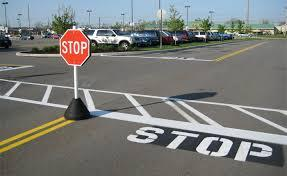Pole: (74, 66, 79, 98)
Sign: (59, 30, 90, 66)
